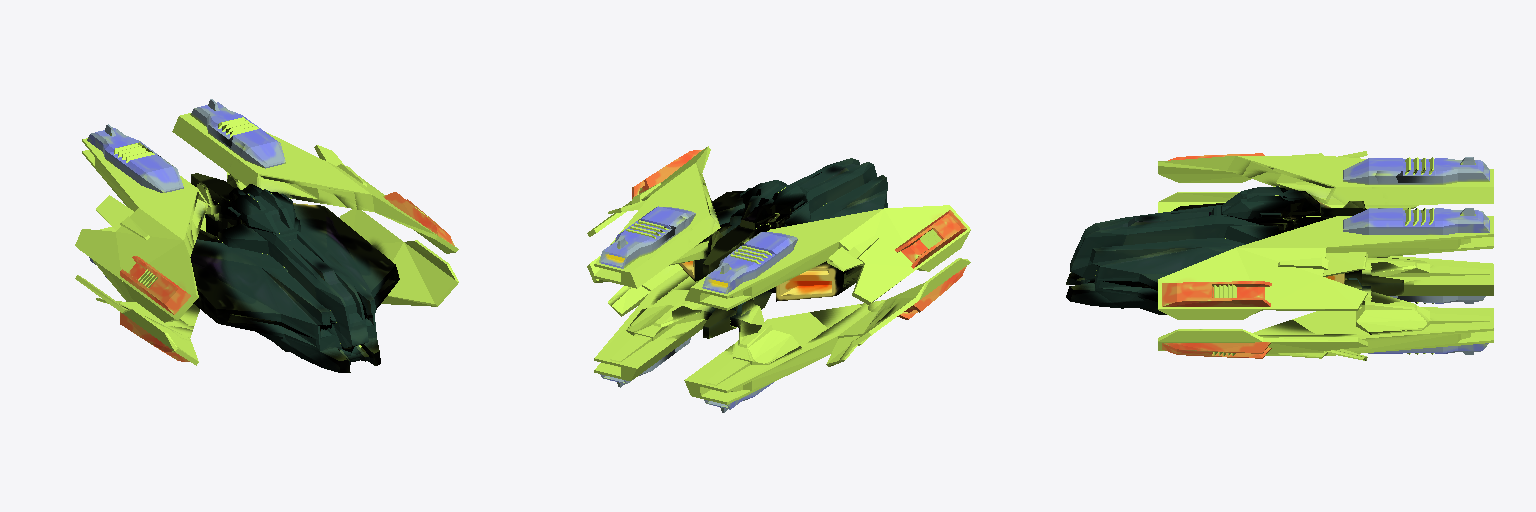
3 views of the same model, side by side, from view 1: azimuth 30°, elevation 25°; view 2: azimuth 150°, elevation 25°; view 3: azimuth 270°, elevation 25° (orthographic).
Parts seen in each view (by area): view 1: SciFi_Fighter_AK5; view 2: SciFi_Fighter_AK5; view 3: SciFi_Fighter_AK5.
Part boxes in pixels (bbox=[...]): SciFi_Fighter_AK5: bbox=[75, 99, 458, 372]; SciFi_Fighter_AK5: bbox=[587, 146, 970, 412]; SciFi_Fighter_AK5: bbox=[1066, 151, 1493, 360].
Size of the model in its own units: 1544 by 748 by 1982.
Materials: 1 (1 with a texture image).